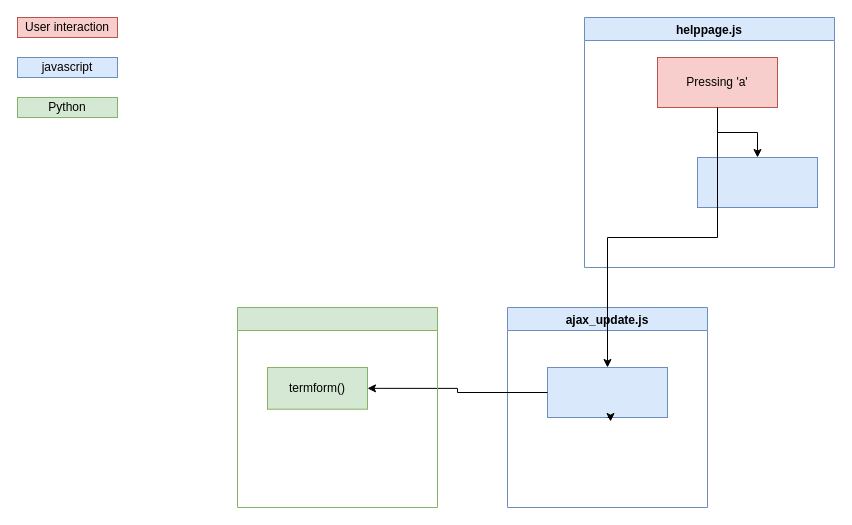
Some shapes in this 852 by 525 pixel diagram are drawn without their labels. The box of each missing label's shape, as (x1, y1, x2, y2) in pixels:
_move_next_word(): (696, 156, 818, 208)
ajax_update_status(): (546, 366, 668, 418)
termform.py: (236, 306, 438, 508)
